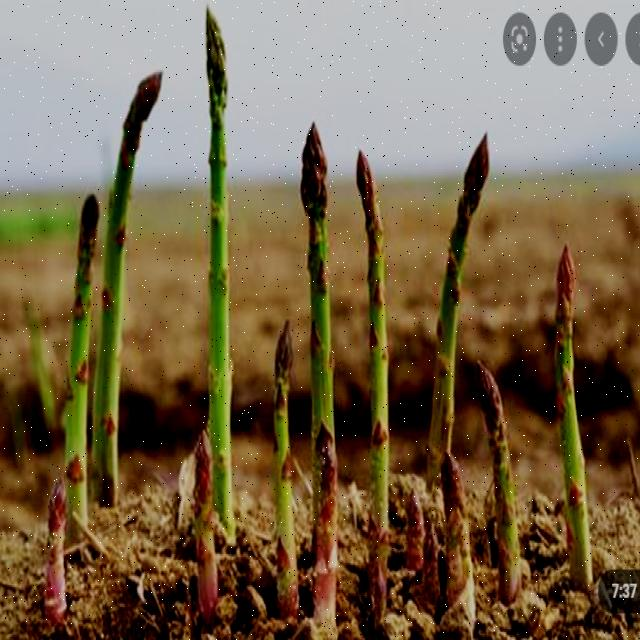aspargus: (88, 70, 168, 506), (428, 135, 489, 483), (351, 146, 392, 615), (206, 6, 235, 531), (553, 247, 592, 605), (62, 189, 103, 518), (475, 355, 525, 595)
